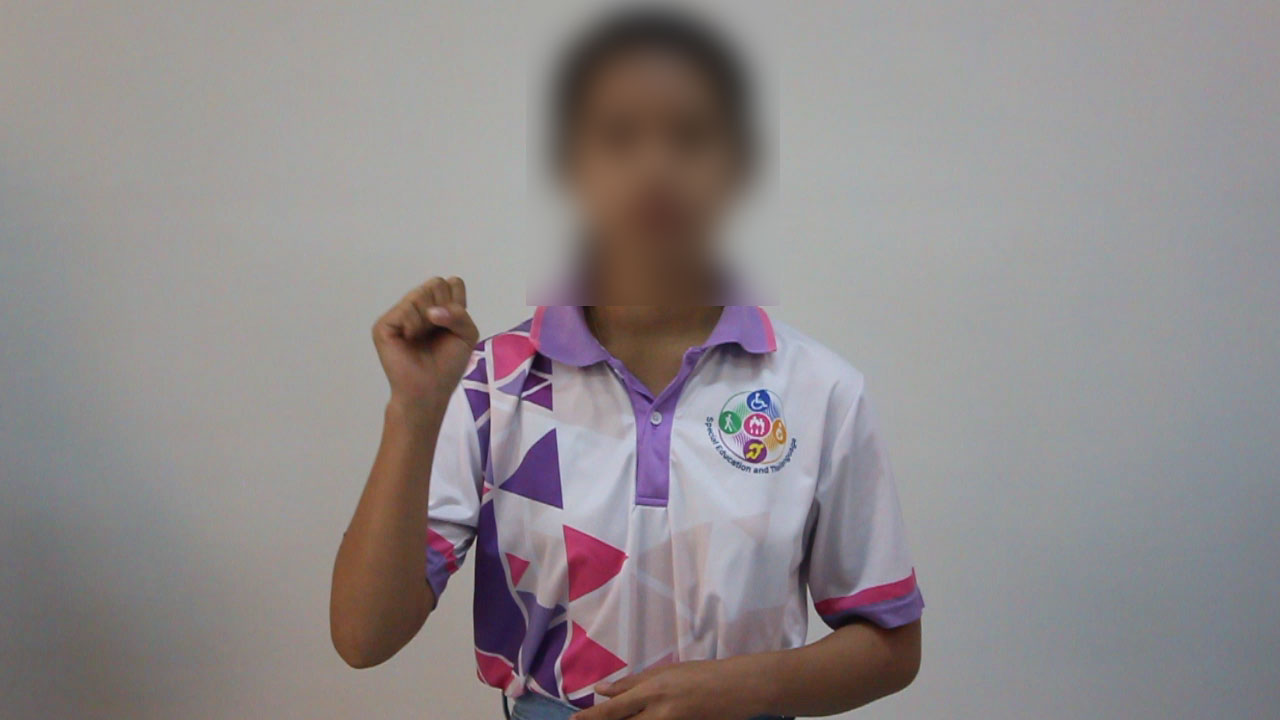sor: (351, 259, 490, 416)
